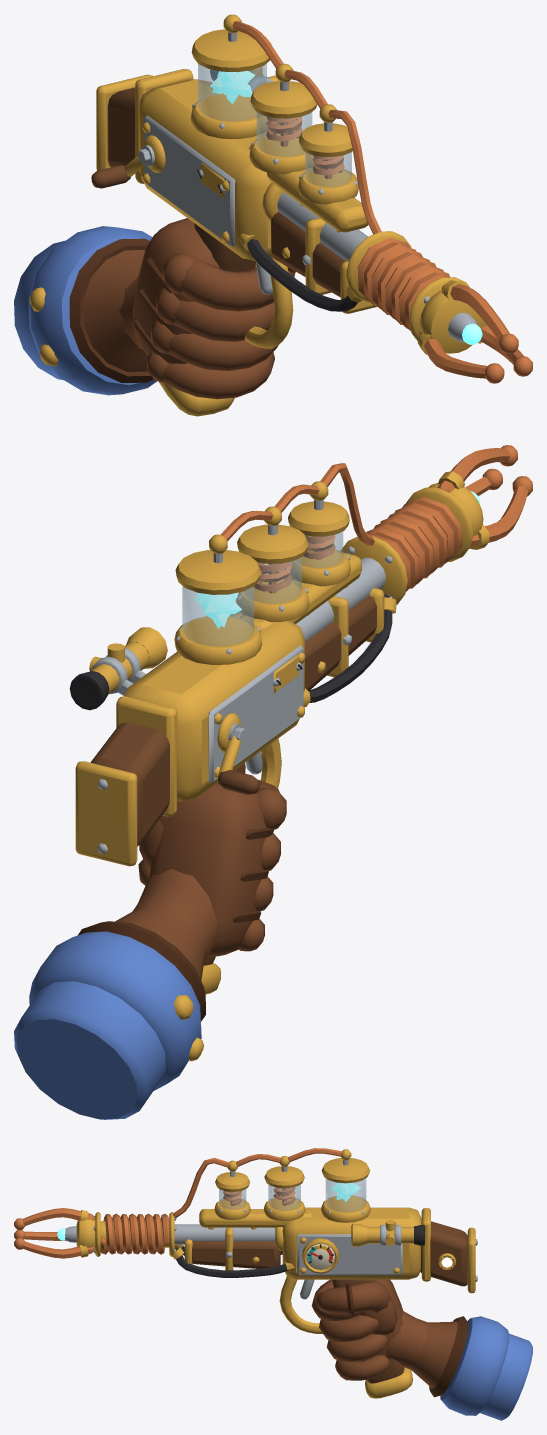
File: vm_tesla_lance.glb
3 views of the same model, one above another, from view 1: azimuth 30°, elevation 25°; view 2: azimuth 150°, elevation 25°; view 3: azimuth 270°, elevation 25° (orthographic). The views are drawn at different scales.
Parts seen in each view (by area): view 1: TeslaLance, Glove, ChargeCore; view 2: TeslaLance, Glove, ChargeCore; view 3: TeslaLance, Glove, ChargeCore.
Boxes of the visible parts, x1,y1,x2,y2 form: TeslaLance: [91, 14, 532, 416]; Glove: [14, 218, 295, 399]; ChargeCore: [210, 71, 255, 104]; TeslaLance: [69, 445, 532, 994]; Glove: [14, 779, 286, 1119]; ChargeCore: [194, 592, 241, 628]; TeslaLance: [14, 1148, 477, 1398]; Glove: [311, 1279, 532, 1420]; ChargeCore: [330, 1182, 360, 1201].
Size of the model in its own units: 0.1745 by 0.449 by 0.7791.
